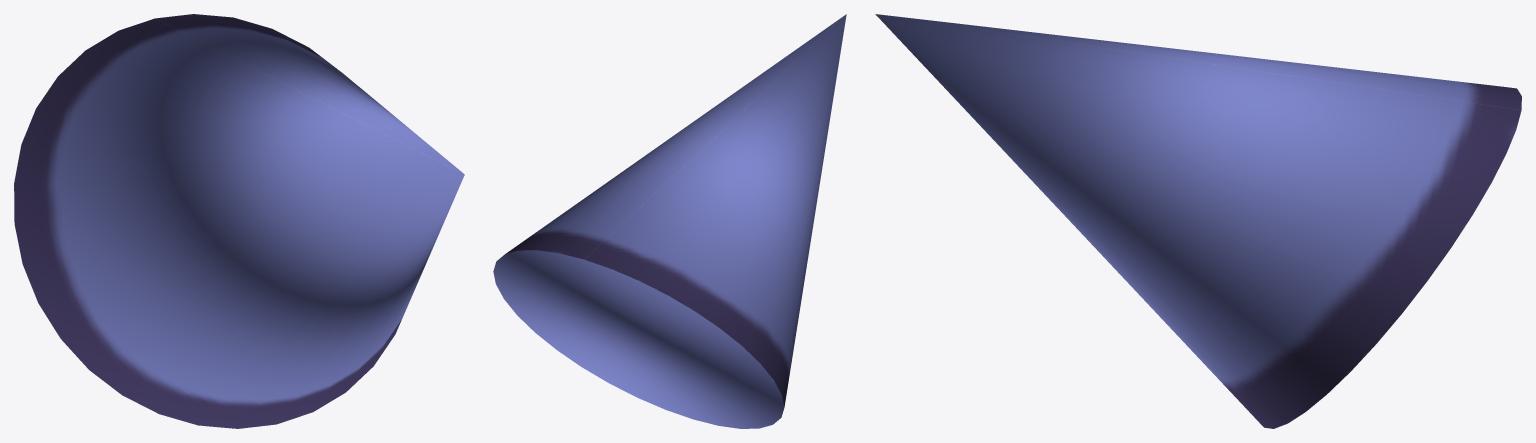
The model's file is CatHat.fbx.
The picture shows the model from 3 angles, left to right: view 1: azimuth 30°, elevation 25°; view 2: azimuth 150°, elevation 25°; view 3: azimuth 270°, elevation 25°; orthographic projection. The views are drawn at different scales.
Visible parts, largest first — view 1: Cylinder.016; view 2: Cylinder.016; view 3: Cylinder.016.
Boxes of the visible parts, x1,y1,x2,y2 form: Cylinder.016: (14,14,464,428); Cylinder.016: (493,14,846,428); Cylinder.016: (875,14,1521,428).
Size of the model in its own units: 88.48 by 89.84 by 136.
1 material, 1 textured.
